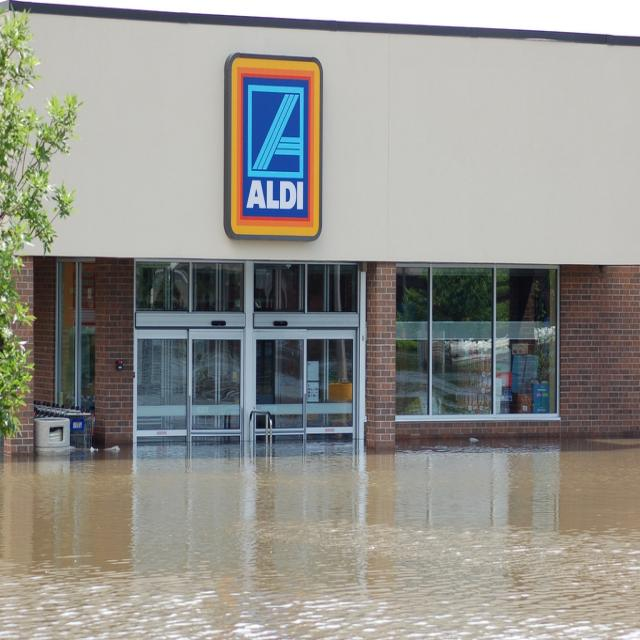aldi: (232, 57, 322, 237)
